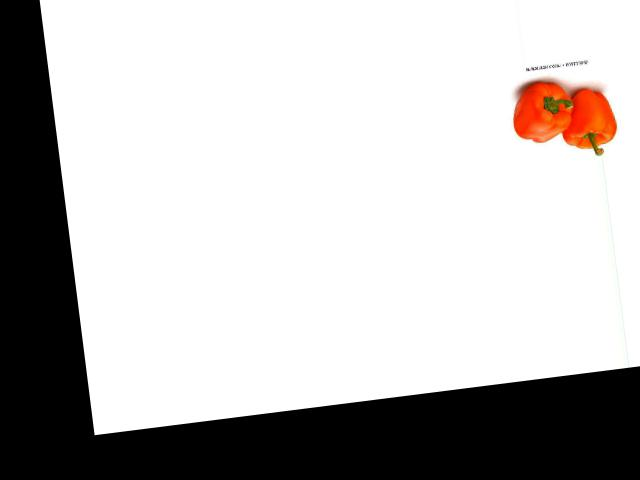bell_pepper: (506, 72, 580, 148)
